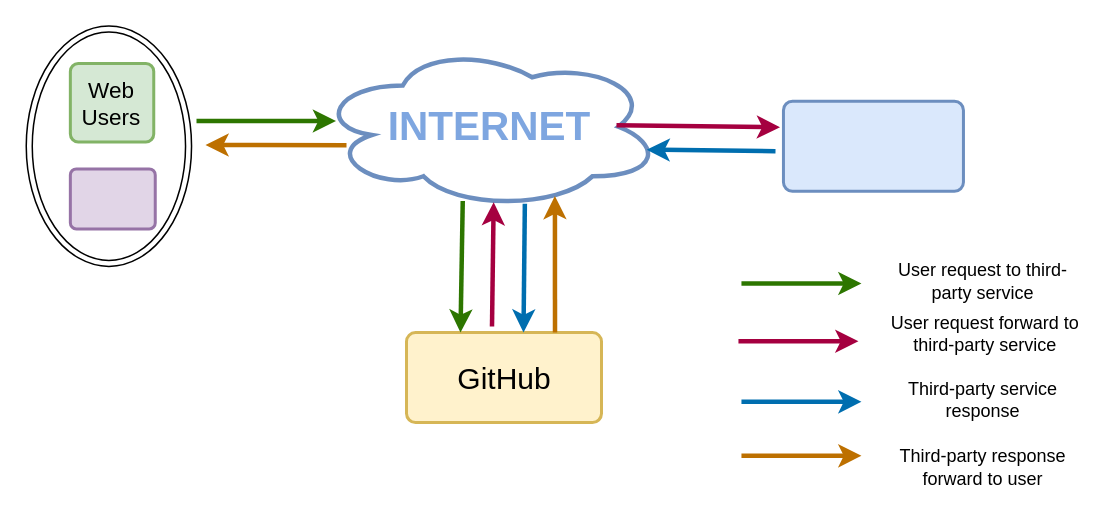
The diagram is 1110 pixels wide and 521 high, and some of its shapes have lost their labels. Here are the shapes that lost their labels. From the top down, the centre of each, then its label:
the point at 872,145: Third-party Services
the point at 112,198: App Users
